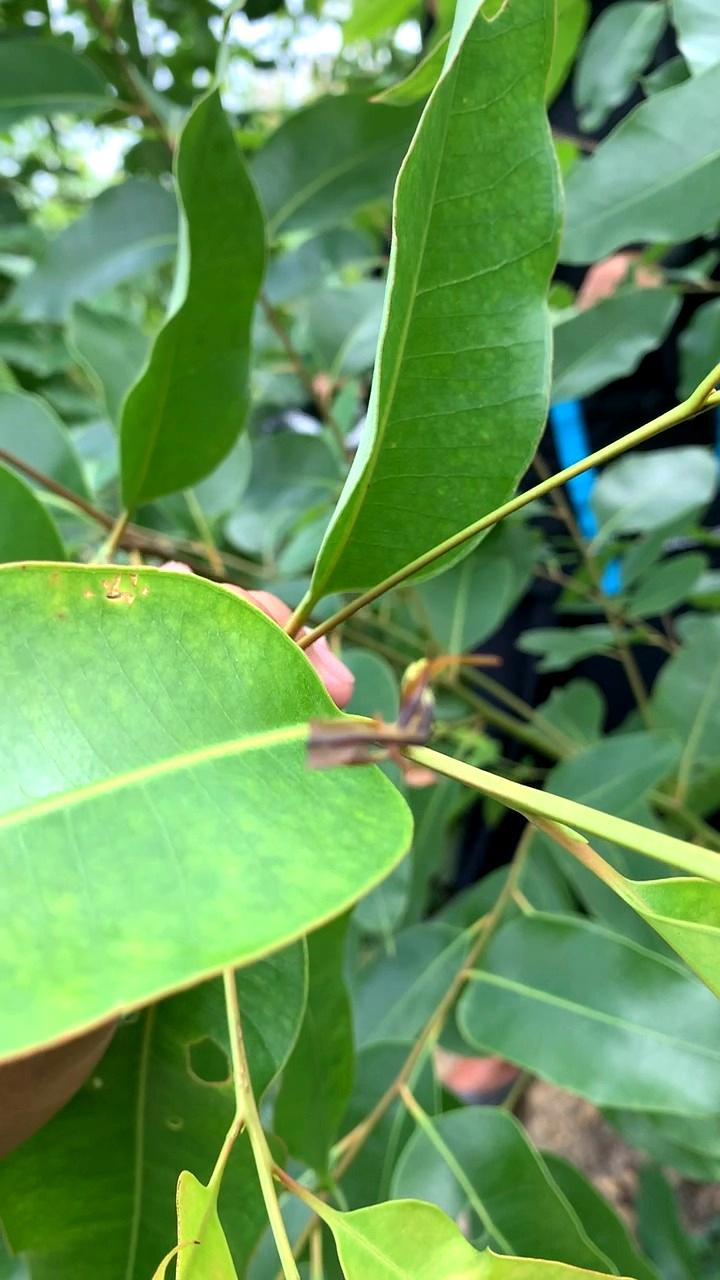Helopeltis-Withered Sprout: (300, 648, 499, 795)
